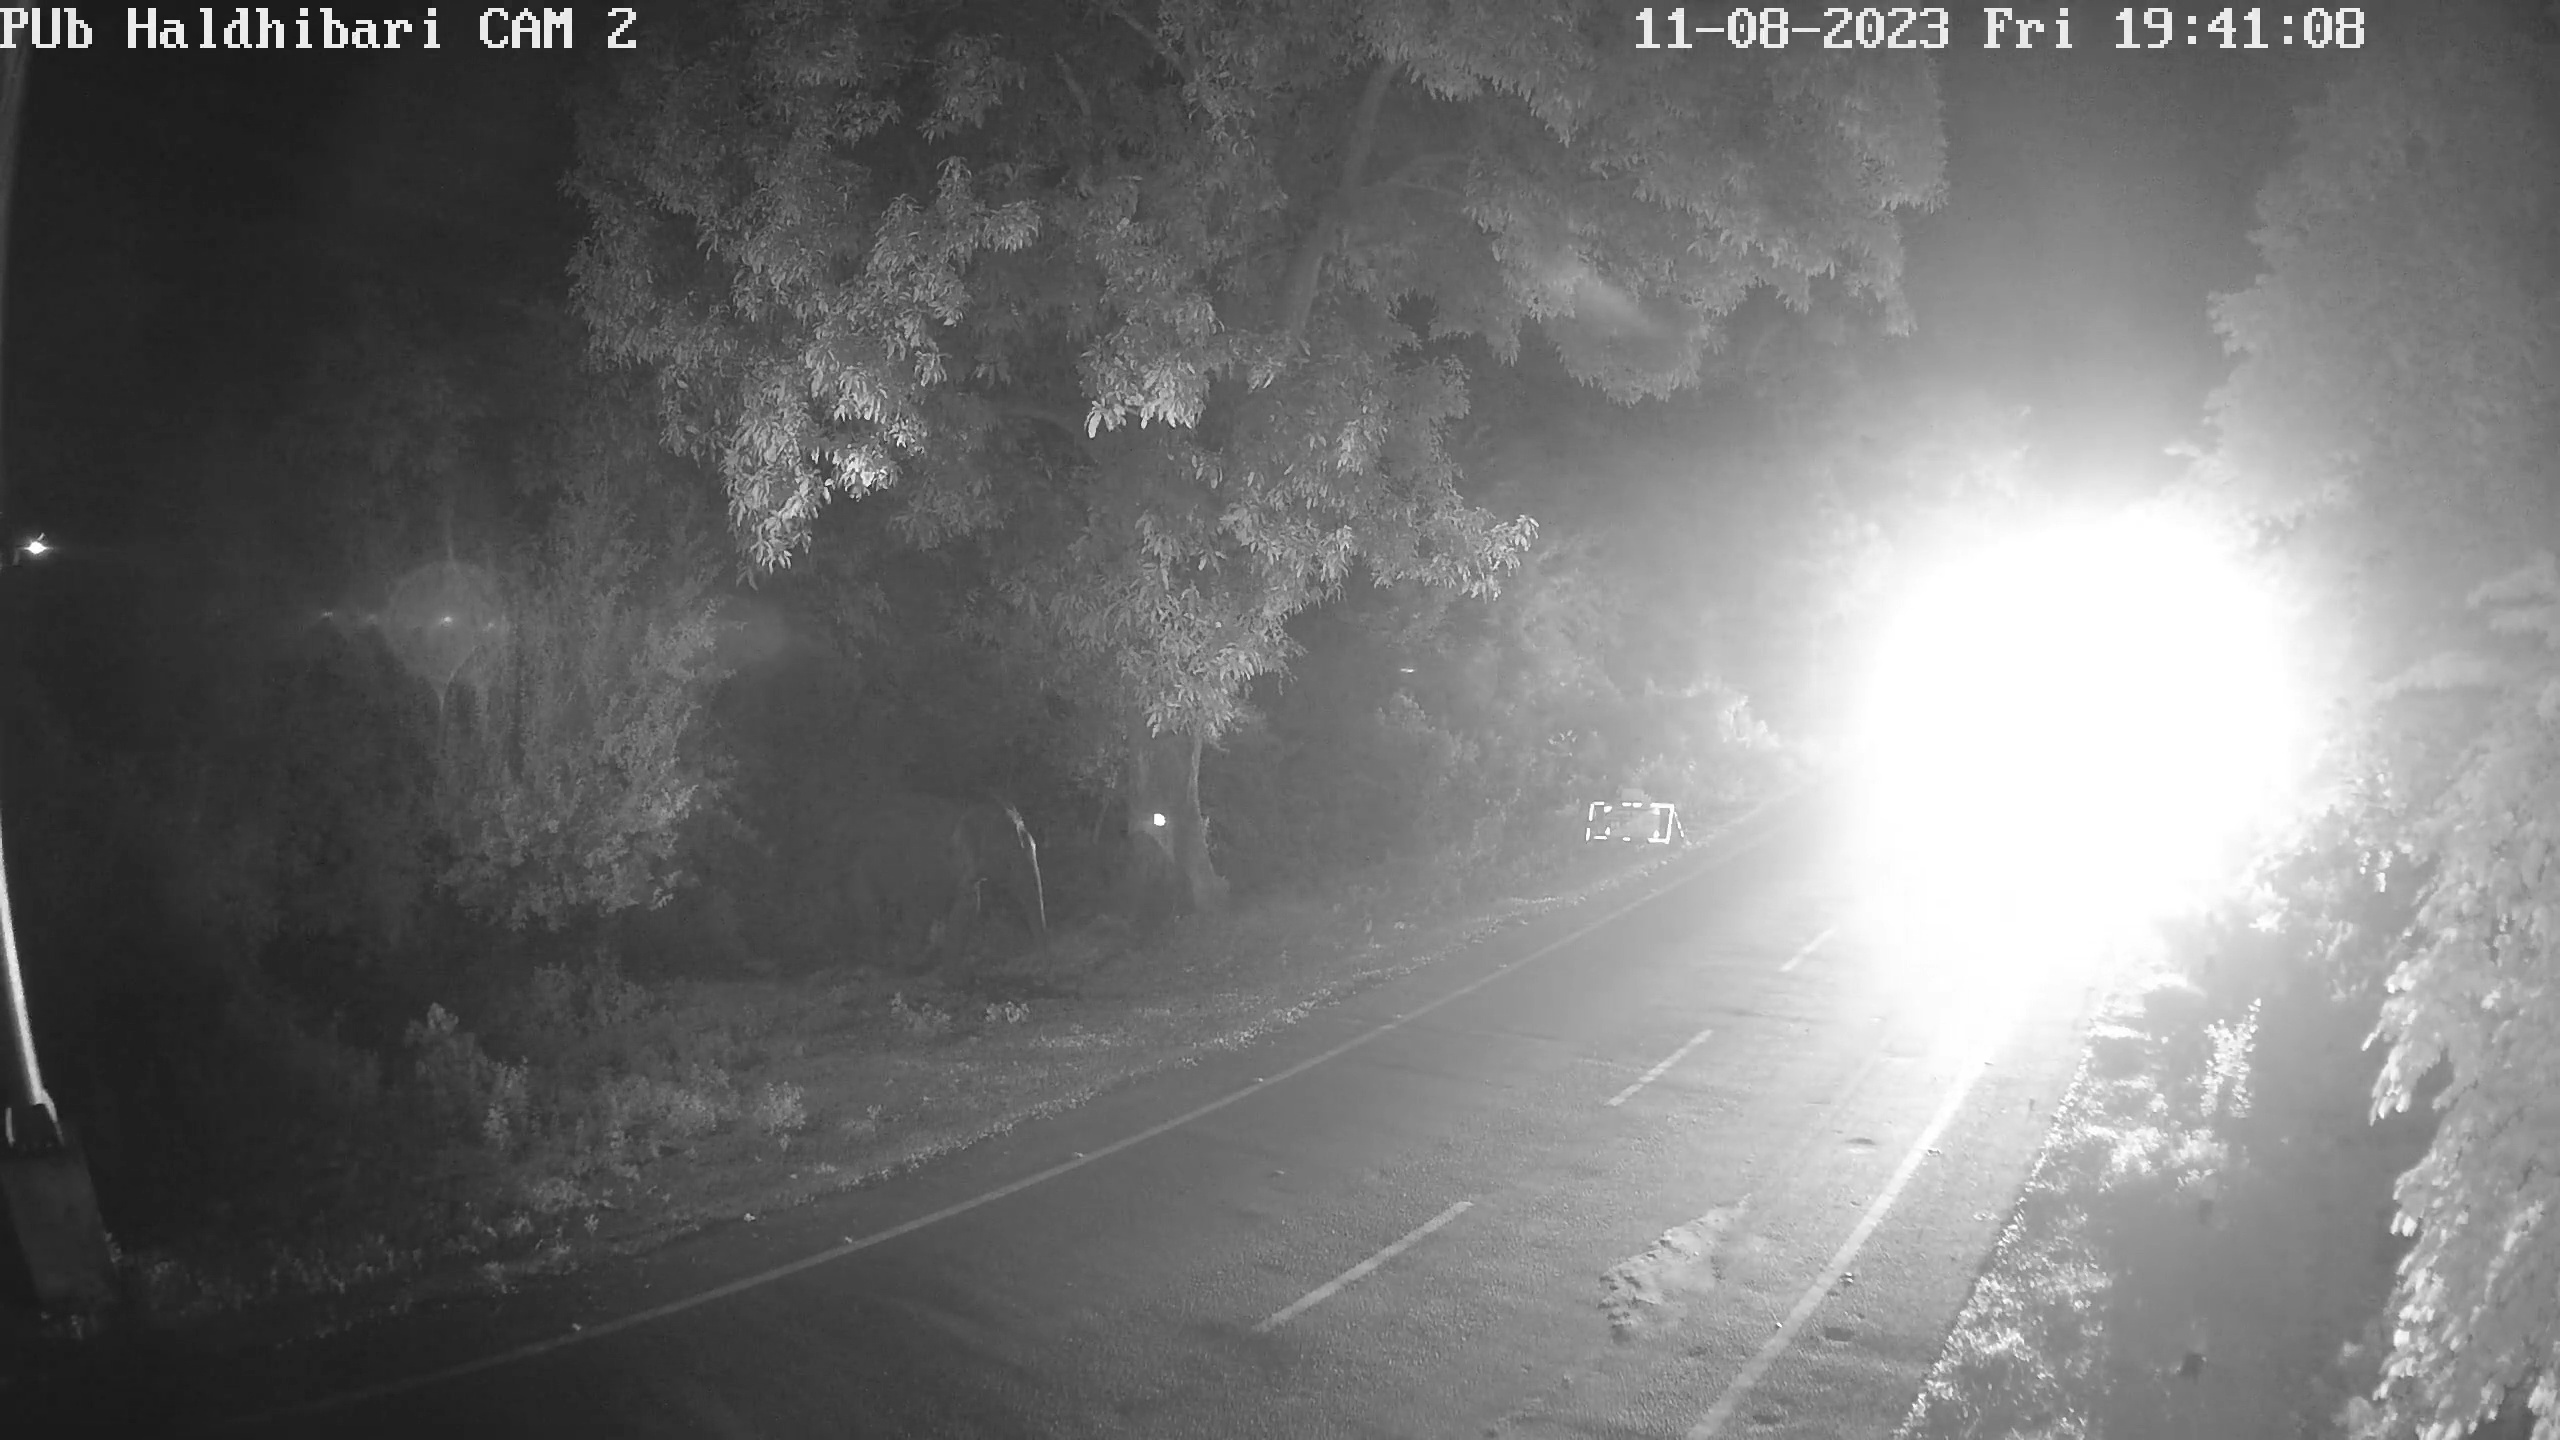elephants: (846, 798, 1048, 967)
